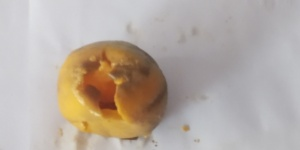BAD: (60, 41, 167, 139)
